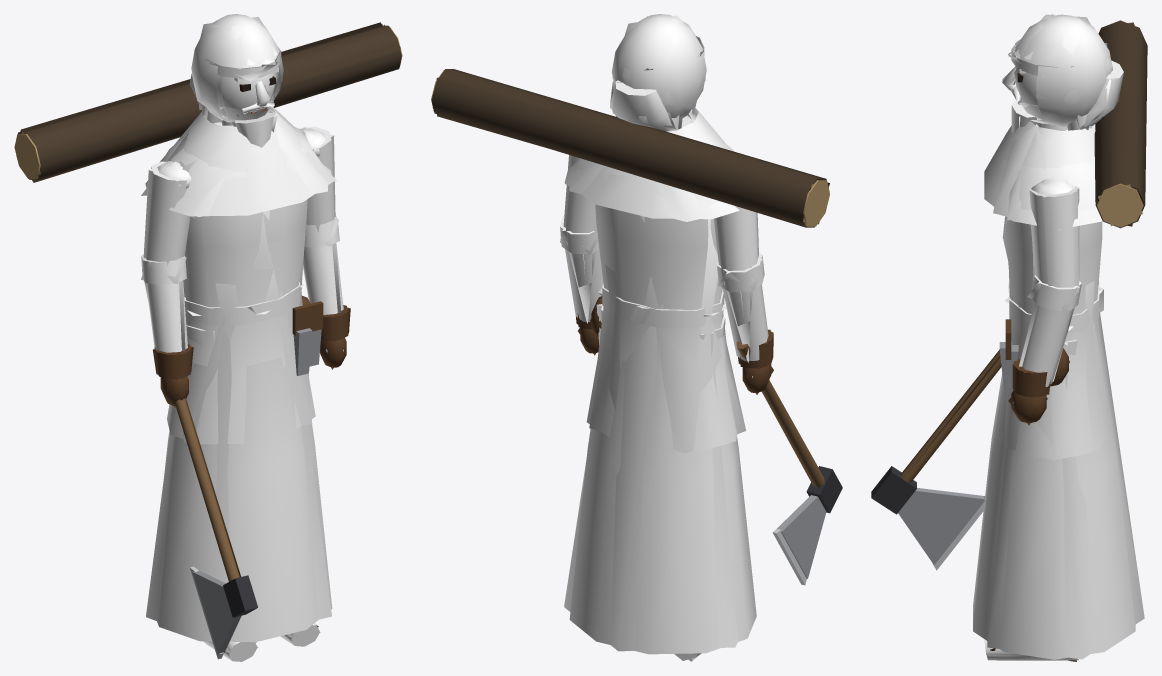
File: char_woodcutter.glb
3 views of the same model, side by side, from view 1: azimuth 30°, elevation 25°; view 2: azimuth 150°, elevation 25°; view 3: azimuth 270°, elevation 25° (orthographic). The views are drawn at different scales.
Visible parts, largest first — view 1: body__sex_f, body__sex_m, body__log_yes_sex_m, head__hat_hood, arm_R__base, lod1__body__sex_f, lod1__body__sex_m, lod1__body__log_yes_sex_m, lod1__head__hat_hood, arm_R__sleeves_full, arm_L__sleeves_full, body__hat_cowl (+10 smaller); view 2: body__sex_f, body__log_yes_sex_m, body__sex_m, lod1__body__sex_f, head__hat_hood, lod1__body__sex_m, arm_R__base, lod1__body__log_yes_sex_m, lod1__head__hat_hood, arm_R__sleeves_full, head__hat_cowl, arm_L__sleeves_full (+6 smaller); view 3: body__sex_f, body__sex_m, head__hat_hood, lod1__body__sex_f, body__log_yes_sex_m, arm_R__base, arm_L__base, lod1__body__sex_m, lod1__head__hat_hood, arm_L__sleeves_full, body__hat_cowl, arm_L__gloves_yes (+9 smaller).
Part boxes in pixels (bbox=[...]): body__sex_f: bbox=[157, 242, 332, 642]; body__sex_m: bbox=[167, 122, 323, 444]; body__log_yes_sex_m: bbox=[14, 25, 402, 179]; head__hat_hood: bbox=[145, 14, 332, 216]; arm_R__base: bbox=[146, 161, 257, 659]; lod1__body__sex_f: bbox=[146, 213, 331, 641]; lod1__body__sex_m: bbox=[182, 159, 312, 442]; lod1__body__log_yes_sex_m: bbox=[16, 22, 400, 182]; lod1__head__hat_hood: bbox=[159, 17, 327, 216]; arm_R__sleeves_full: bbox=[147, 280, 187, 352]; arm_L__sleeves_full: bbox=[303, 243, 343, 314]; body__hat_cowl: bbox=[161, 126, 323, 200]; body__sex_f: bbox=[569, 361, 756, 654]; body__log_yes_sex_m: bbox=[431, 69, 829, 227]; body__sex_m: bbox=[586, 119, 737, 450]; lod1__body__sex_f: bbox=[564, 310, 738, 651]; head__hat_hood: bbox=[564, 14, 739, 219]; lod1__body__sex_m: bbox=[589, 115, 745, 453]; arm_R__base: bbox=[714, 206, 842, 585]; lod1__body__log_yes_sex_m: bbox=[432, 74, 829, 224]; lod1__head__hat_hood: bbox=[569, 15, 705, 221]; arm_R__sleeves_full: bbox=[722, 285, 768, 361]; head__hat_cowl: bbox=[610, 80, 673, 131]; arm_L__sleeves_full: bbox=[565, 249, 603, 321]; body__sex_f: bbox=[973, 236, 1135, 659]; body__sex_m: bbox=[999, 124, 1109, 460]; head__hat_hood: bbox=[984, 14, 1112, 229]; lod1__body__sex_f: bbox=[987, 216, 1144, 659]; body__log_yes_sex_m: bbox=[1094, 20, 1147, 228]; arm_R__base: bbox=[871, 350, 1001, 570]; arm_L__base: bbox=[1029, 182, 1079, 287]; lod1__body__sex_m: bbox=[1004, 129, 1103, 451]; lod1__head__hat_hood: bbox=[993, 14, 1112, 216]; arm_L__sleeves_full: bbox=[1022, 302, 1071, 386]; body__hat_cowl: bbox=[1000, 159, 1096, 211]; arm_L__gloves_yes: bbox=[1011, 359, 1047, 423].
Size of the model in its own units: 1.11 by 1.78 by 0.7106.
